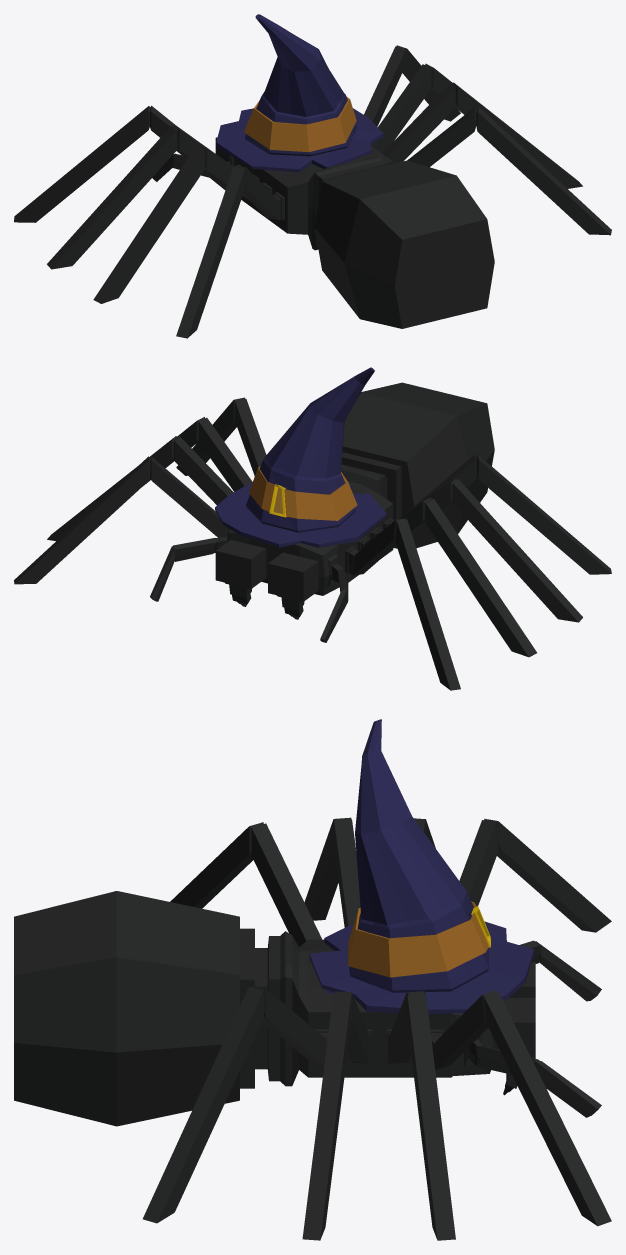
The model's file is Añara.fbx.
3 views of the same model, one above another, from view 1: azimuth 30°, elevation 25°; view 2: azimuth 150°, elevation 25°; view 3: azimuth 270°, elevation 25° (orthographic). The views are drawn at different scales.
Visible parts, largest first — view 1: Añara, Gorro; view 2: Añara, Gorro; view 3: Añara, Gorro.
Boxes of the visible parts, bbox=[...] form: Añara: bbox=[14, 45, 611, 338]; Gorro: bbox=[216, 14, 383, 172]; Añara: bbox=[14, 382, 611, 690]; Gorro: bbox=[215, 367, 386, 547]; Añara: bbox=[14, 817, 611, 1240]; Gorro: bbox=[309, 719, 533, 1014].
Size of the model in its own units: 2223 by 1041 by 1682.
